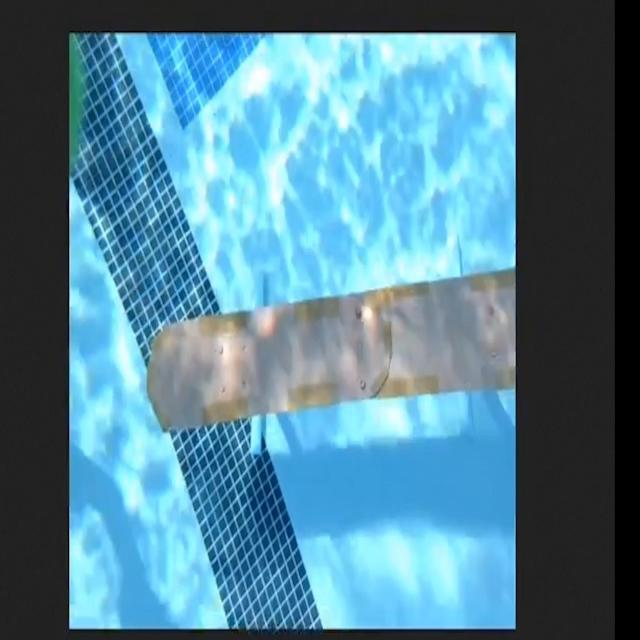Path: (145, 258, 516, 441)
